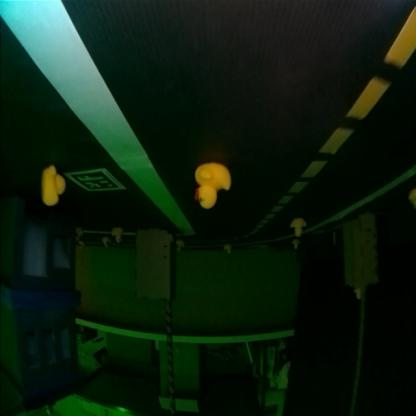Duckie: (196, 168, 232, 208), (42, 168, 66, 206), (294, 222, 308, 236), (113, 230, 124, 244), (76, 228, 82, 238), (227, 247, 233, 255), (104, 240, 110, 247), (356, 293, 362, 300), (179, 246, 184, 252), (294, 244, 300, 249)
QR code: (68, 168, 122, 192)
